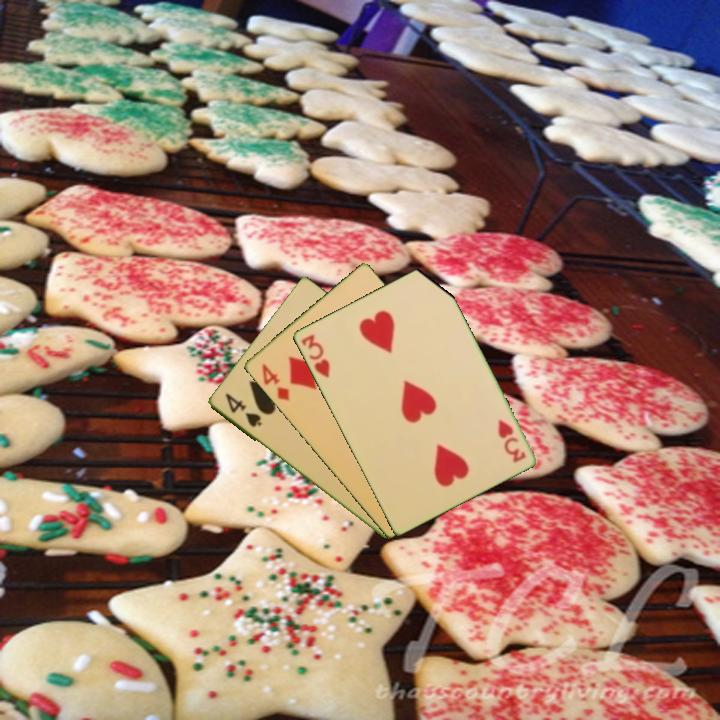3h: (297, 330, 332, 381), (494, 415, 528, 465)
4d: (258, 360, 292, 404)
4s: (221, 390, 264, 430)
